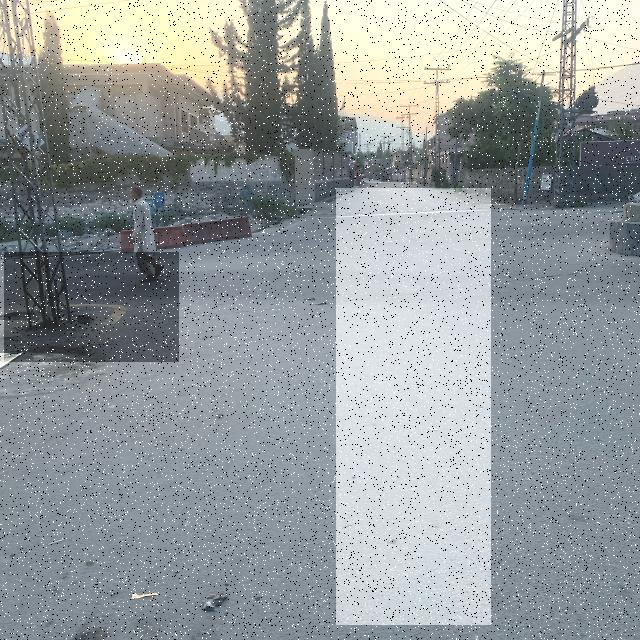left: (4, 252, 179, 362)
straight: (336, 188, 491, 625)
